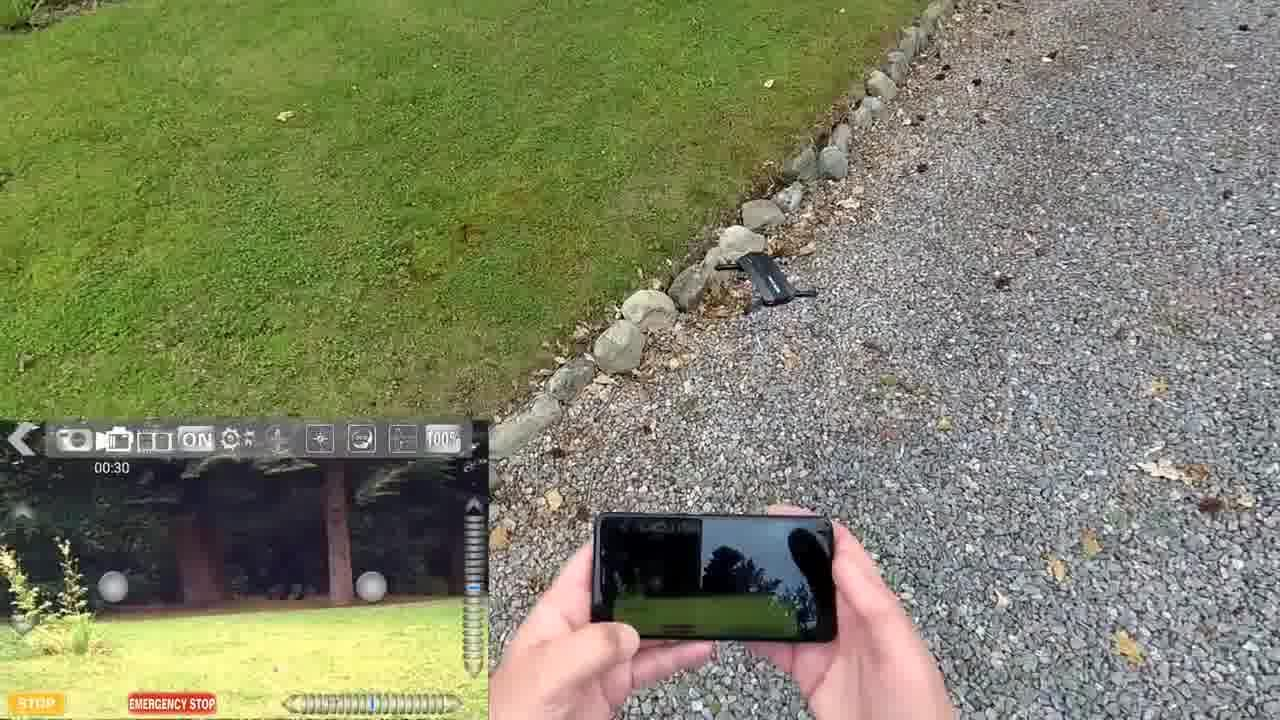drone: (719, 246, 823, 313)
